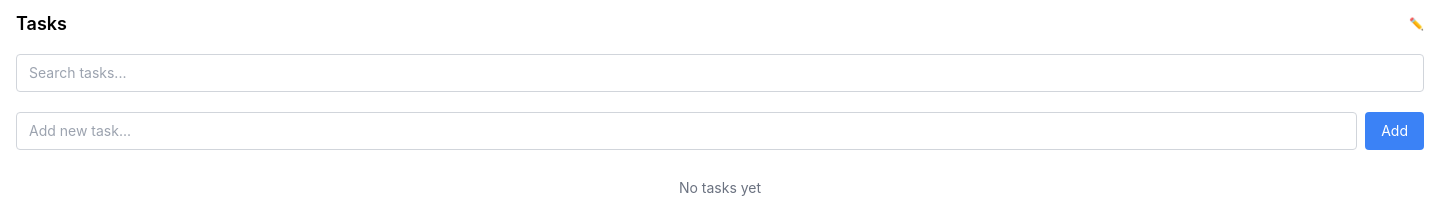
Scenario: TasksWidget › deletes a task
This screenshot has width=1440, height=213.
Type "Delete me" into the field with placeholder "Add new task...".
click(687, 131); type("Delete me")  # box [16, 112, 1357, 150]
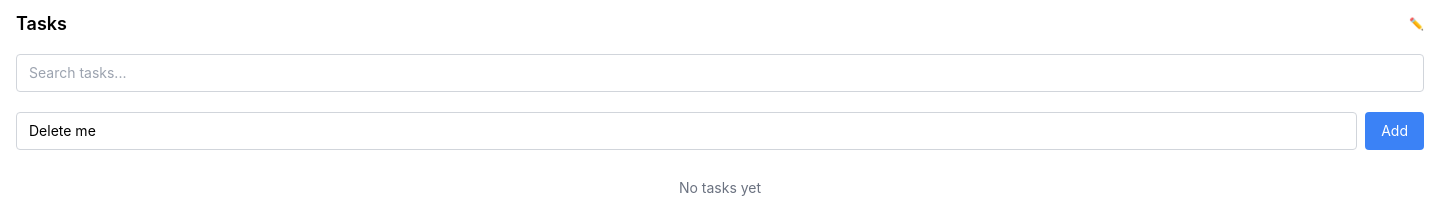
Click the button "Add".
click(1395, 131)  # box [1365, 112, 1424, 150]
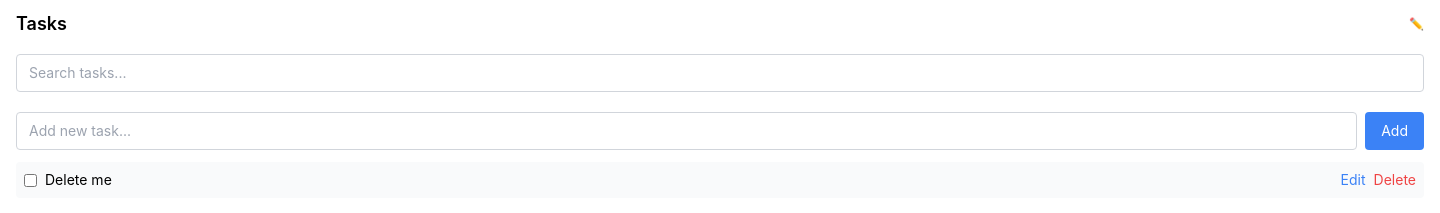
Now the text "Delete me" is shown, box [45, 171, 112, 188]
Click the button "Delete".
click(1395, 180)  # box [1374, 170, 1416, 190]
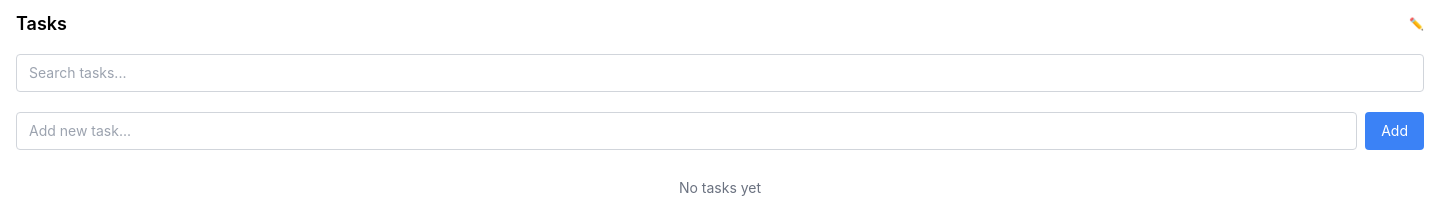
Now the text "Delete me" is gone
